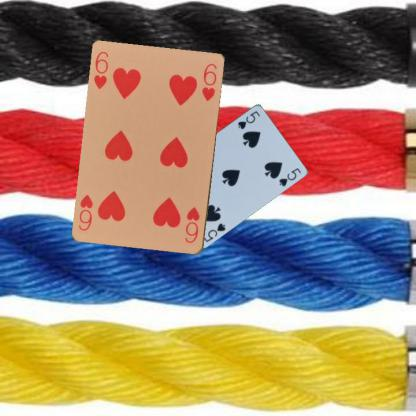5s: (235, 108, 261, 131), (201, 220, 227, 243)
6h: (91, 49, 110, 91), (183, 204, 201, 245)
